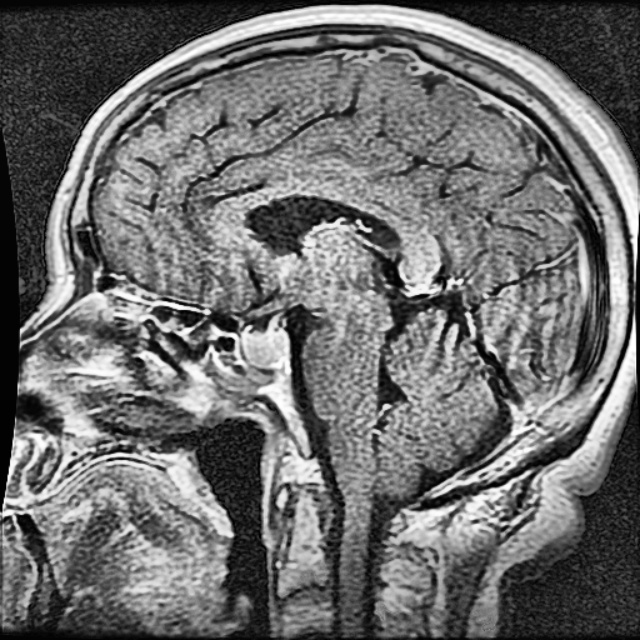Pituitary: (239, 319, 292, 368)
